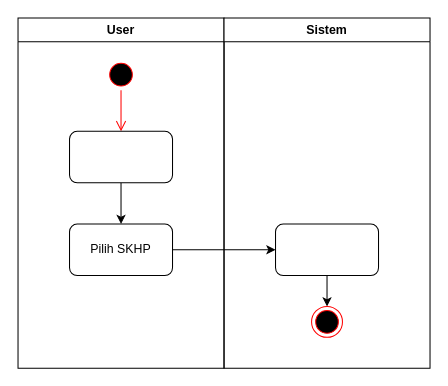
Image size: 448x386. Some labels were removed from this diagram. Each missing label, with the centre of its shape:
Menampilkan halaman SKHP: point 326,249
Pilih Regulatory Compliance pada sidebar: point 120,156
